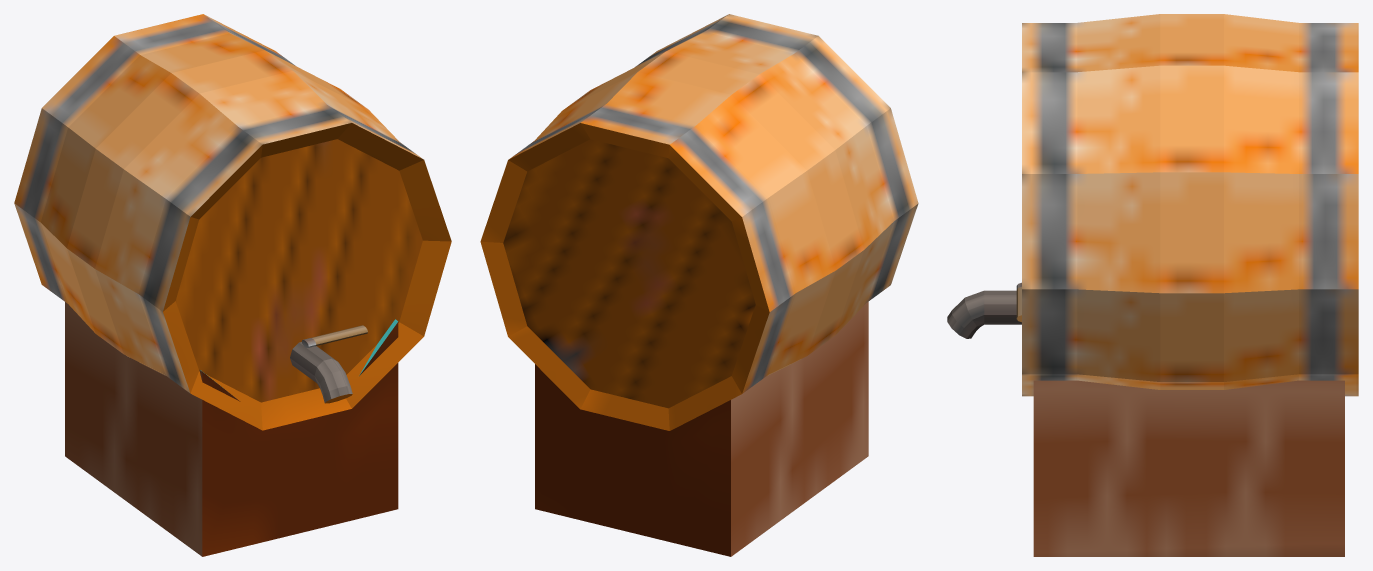
The model's file is keg_258x00.obj.
3 renders of one model, left to right at view 1: azimuth 30°, elevation 25°; view 2: azimuth 150°, elevation 25°; view 3: azimuth 270°, elevation 25°, orthographic. The views are drawn at different scales.
Parts seen in each view (by area): view 1: Keg_258x0; view 2: Keg_258x0; view 3: Keg_258x0.
Boxes of the visible parts, x1,y1,x2,y2 form: Keg_258x0: [14, 14, 451, 556]; Keg_258x0: [480, 14, 918, 556]; Keg_258x0: [947, 14, 1358, 556].
Size of the model in its own units: 3.77 by 4.87 by 3.92.
